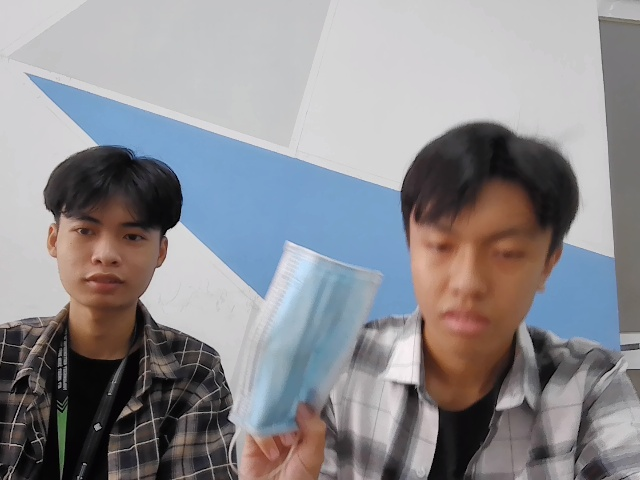human: (394, 111, 578, 350), (37, 140, 191, 311)
mask: (241, 231, 380, 457)
